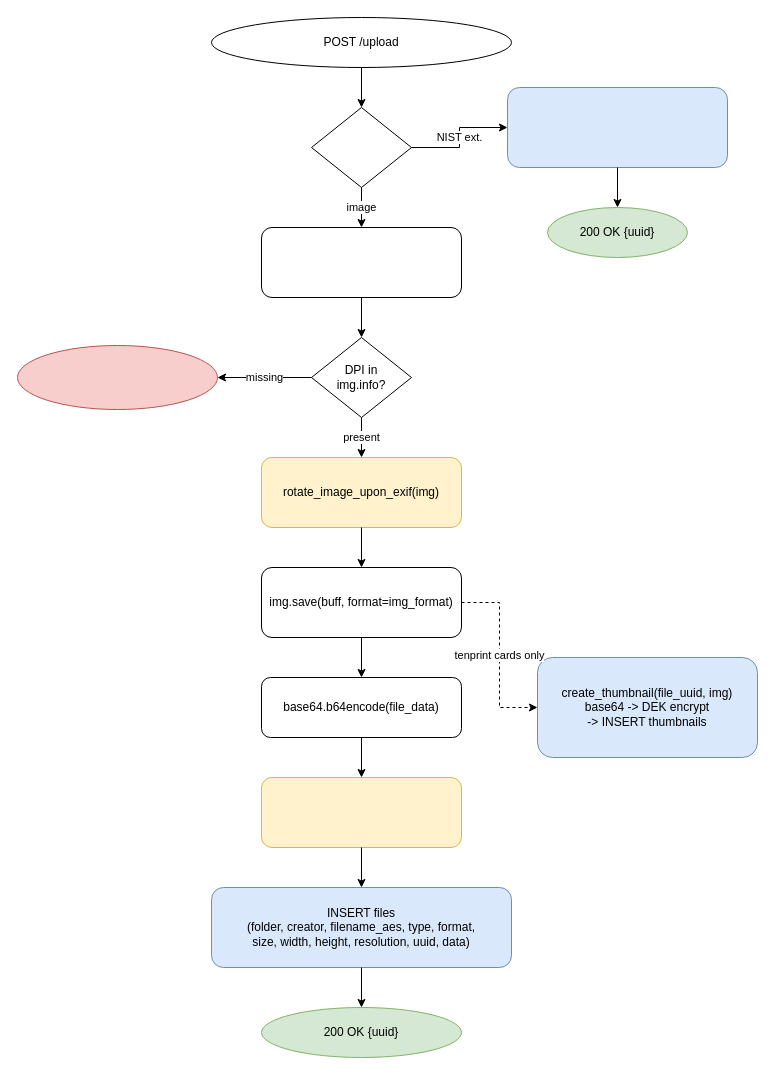
Image size: 775x1075. Some labels were removed from this diagram. Each missing label, with the centre of its shape:
AES-256 encryption of the file with donor DEK: point (361, 812)
base64 encode -> DEK encrypt -> INSERT files (format=NIST): point (617, 127)
Error: No resolution found Upload rejected: point (117, 377)
NIST extension?: point (361, 147)
PIL.open image: point (361, 262)
